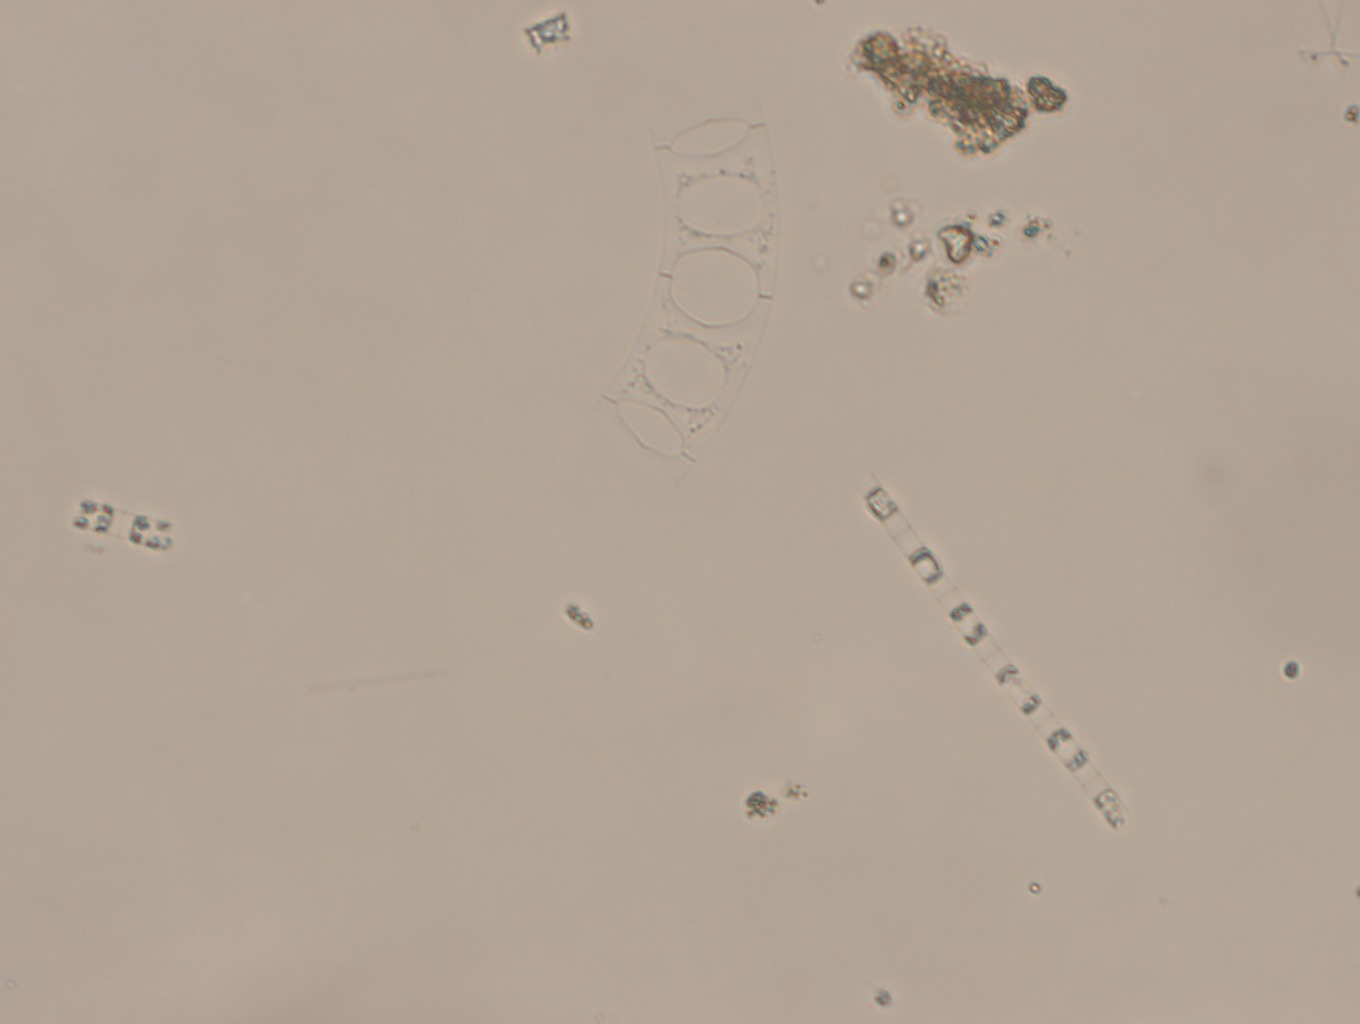detonula pumila: (67, 494, 182, 558)
eucampia: (598, 110, 782, 469)
skeletonema: (848, 477, 1145, 842)
